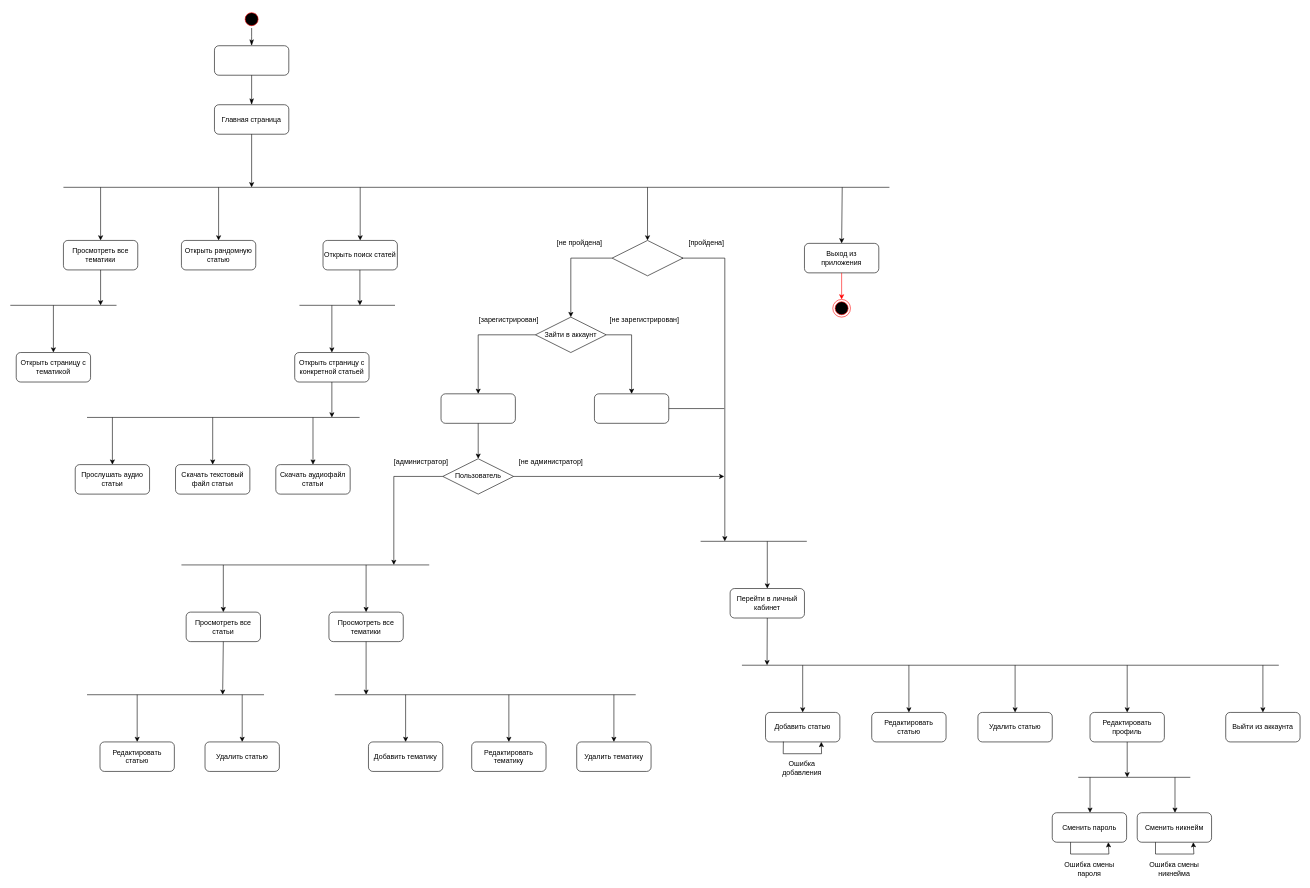
Some shapes in this 1310 by 888 pixel diagram are drawn without their labels. The centre of each missing label's shape, as x and y in pixels:
"Авторизоваться" belongs at pixel 477 408.
"Войти в профиль" belongs at pixel 647 258.
"Запуск приложения" belongs at pixel 251 60.
"Зарегистрироваться" belongs at pixel 631 408.
